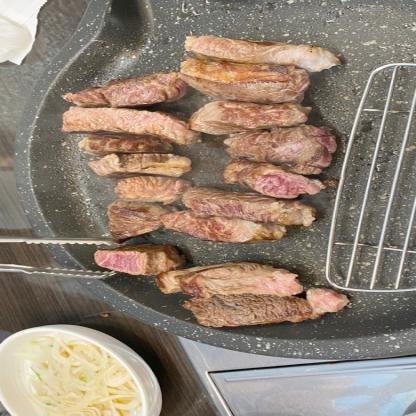Carne: (184, 286, 366, 329), (145, 262, 328, 302), (216, 121, 345, 174), (149, 206, 308, 246), (174, 53, 314, 96), (174, 185, 322, 225), (201, 29, 334, 65), (184, 93, 304, 132), (225, 159, 330, 201), (60, 109, 190, 135), (60, 86, 192, 110), (98, 156, 200, 182), (109, 201, 171, 243), (88, 250, 170, 278), (114, 176, 190, 206), (76, 140, 160, 158)
